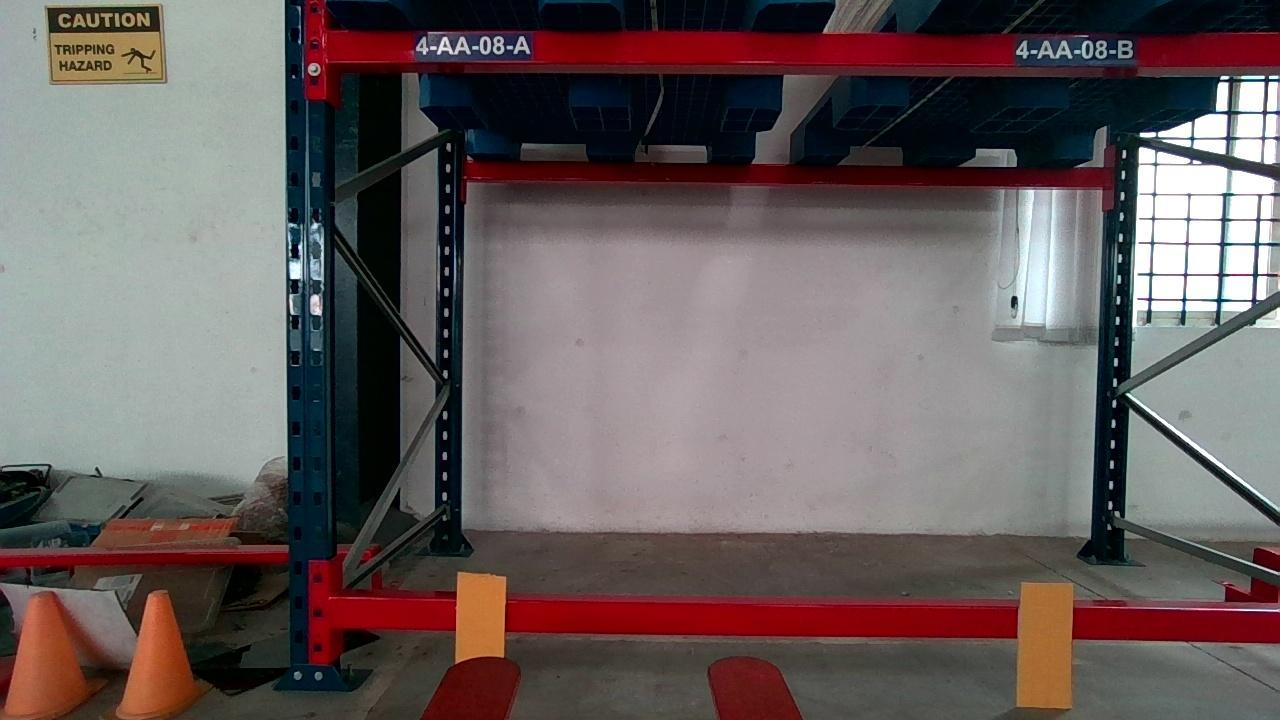h_rack: (324, 595, 1277, 641), (327, 30, 1278, 65)
orange_strip: (1015, 584, 1071, 704), (455, 572, 509, 659)
